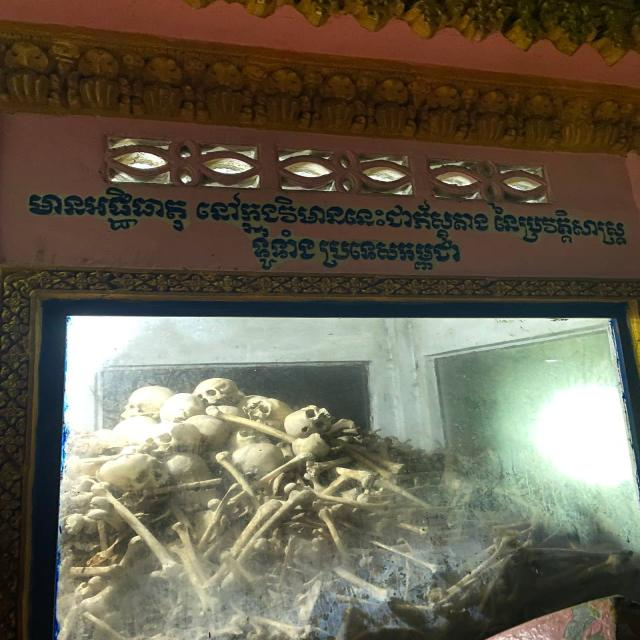2: (24, 175, 636, 247)
Yolov11kh: (241, 234, 471, 274)
